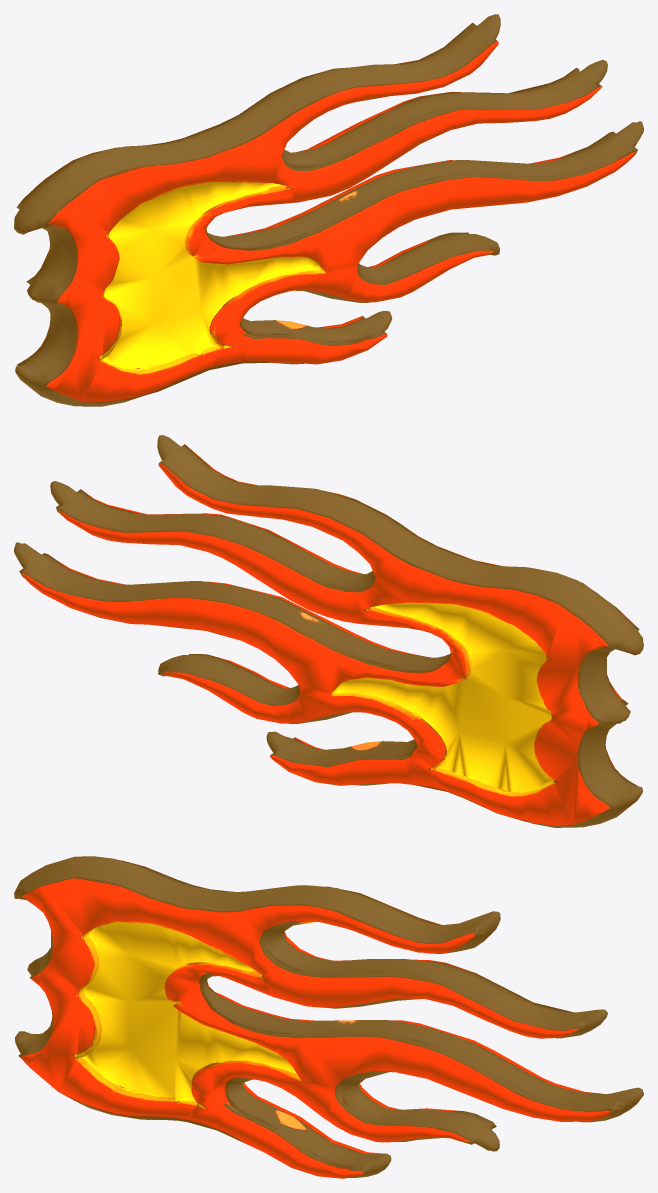
Rendered from flames.glb.
The picture shows the model from 3 angles, top to bottom: view 1: azimuth 30°, elevation 25°; view 2: azimuth 150°, elevation 25°; view 3: azimuth 330°, elevation 25°; orthographic projection.
Visible parts, largest first — view 1: tripo_node_e6362efe-0fcd-4e4a-be49-3e7fe8ba5037; view 2: tripo_node_e6362efe-0fcd-4e4a-be49-3e7fe8ba5037; view 3: tripo_node_e6362efe-0fcd-4e4a-be49-3e7fe8ba5037.
Part boxes in pixels (left/top/right/bottom): tripo_node_e6362efe-0fcd-4e4a-be49-3e7fe8ba5037: left=14, top=14, right=643, bottom=406; tripo_node_e6362efe-0fcd-4e4a-be49-3e7fe8ba5037: left=14, top=435, right=643, bottom=827; tripo_node_e6362efe-0fcd-4e4a-be49-3e7fe8ba5037: left=14, top=856, right=643, bottom=1178.
Size of the model in its own units: 1.03 by 0.48 by 0.08.
1 material, 1 textured.
